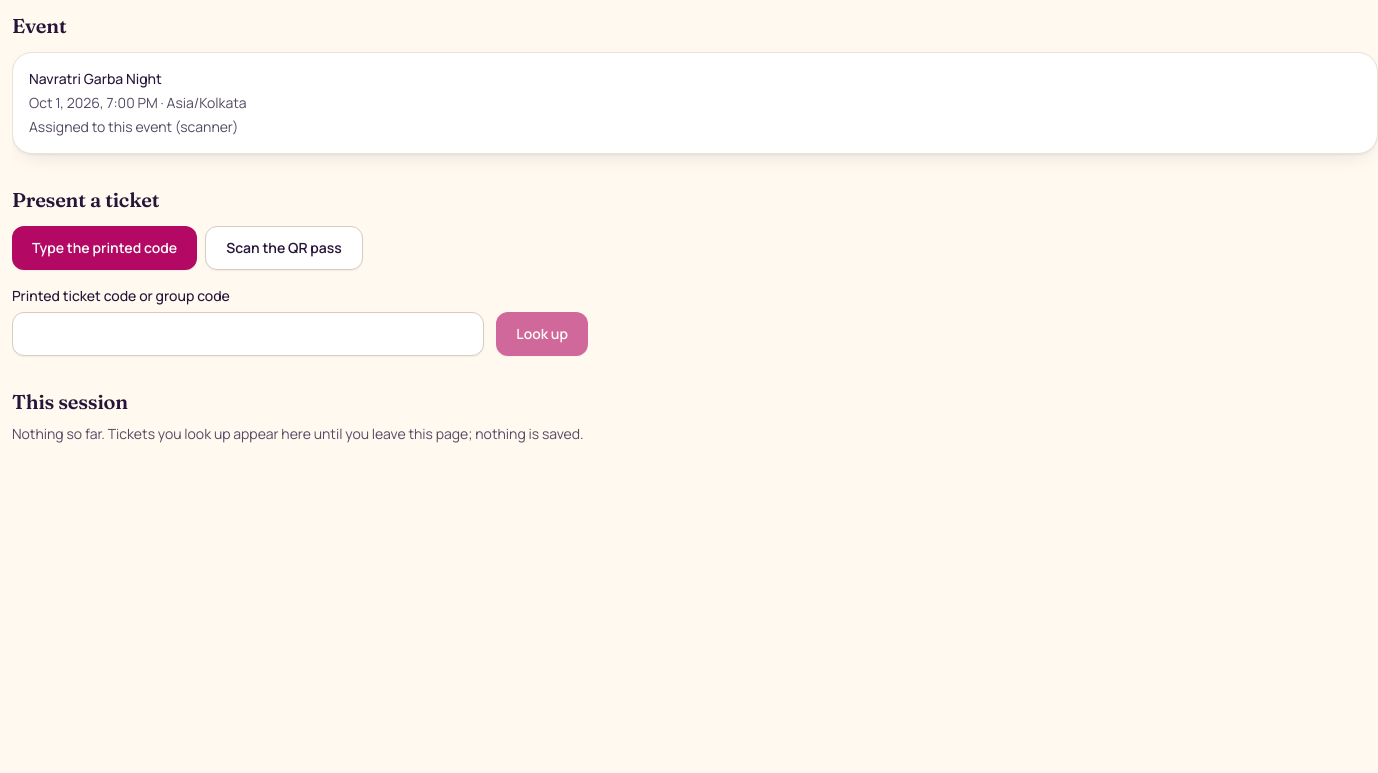
it: DoorWorkspace: looking up, then admitting › never offers Admit for a ticket that is already in
Type "det-abc123xyz" into the field labelled "Printed ticket code or group code".
click(248, 334); type("det-abc123xyz")  # box [12,312,484,356]
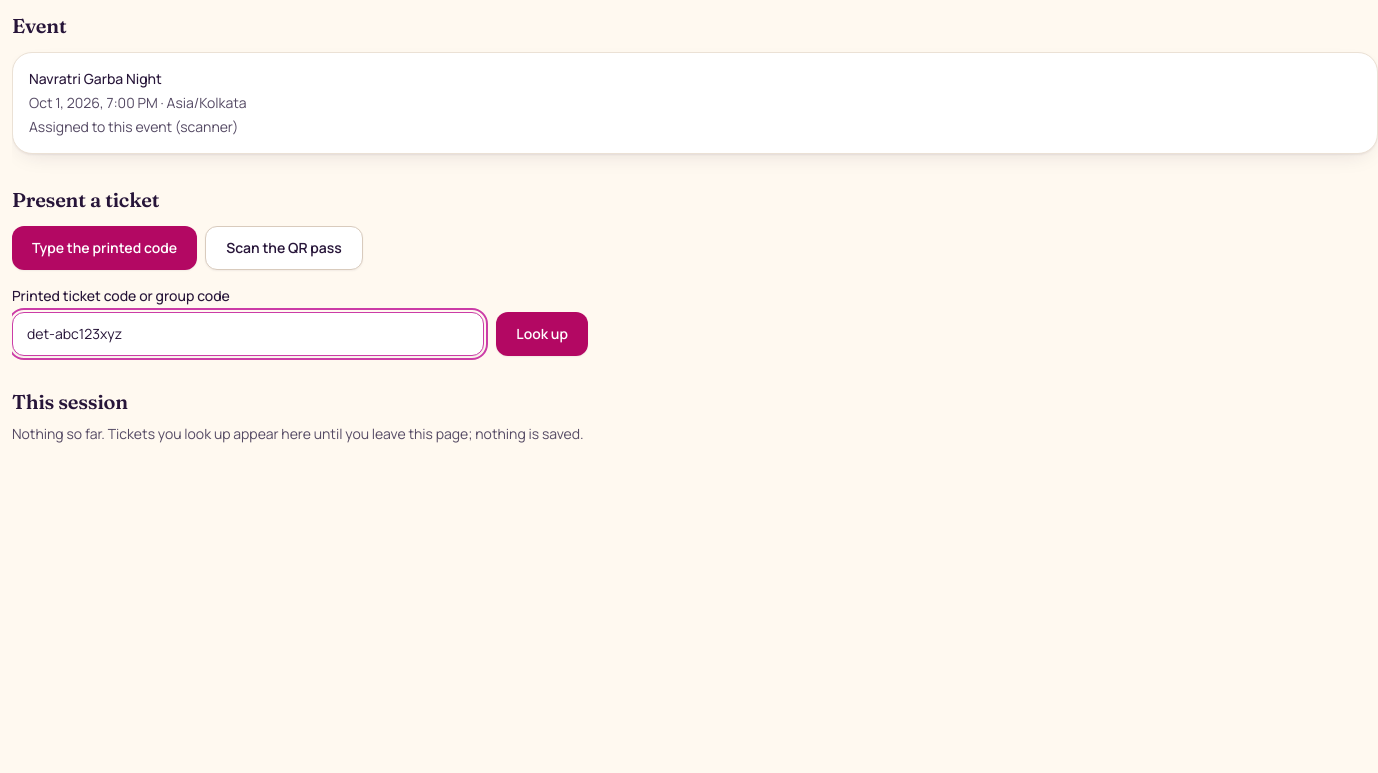
Click the button "Look up".
click(542, 334)  # box [496,312,588,356]
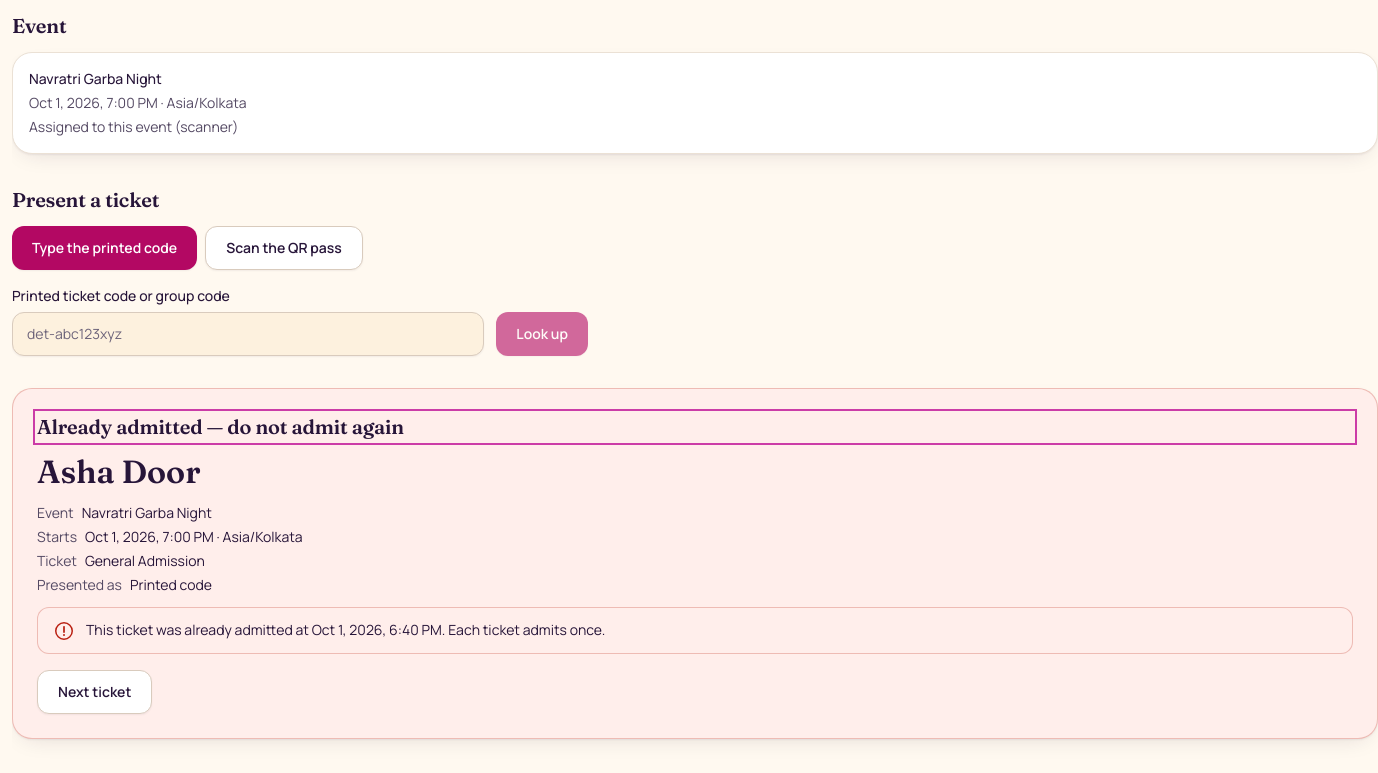
expect the heading "Already admitted — do not admit again" is shown: met, box [37,414,404,439]
expect the message shows "already admitted": met, box [86,620,293,639]
